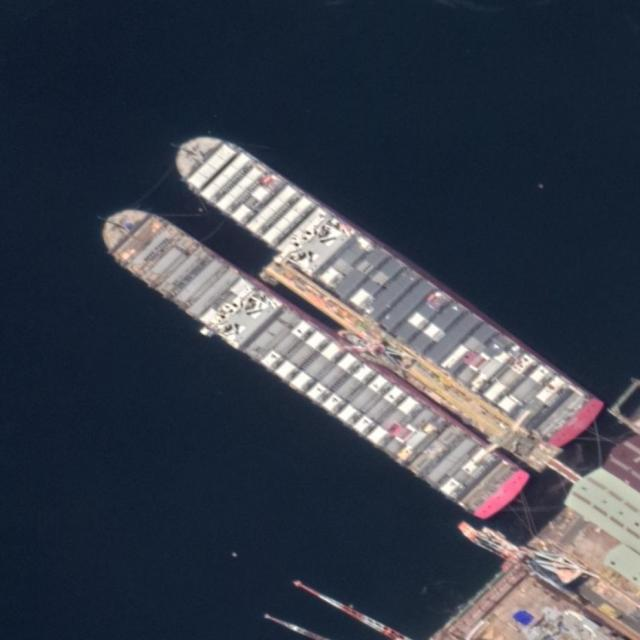Cargo: (160, 110, 610, 461), (87, 186, 536, 531)
Dock: (257, 250, 581, 495)
